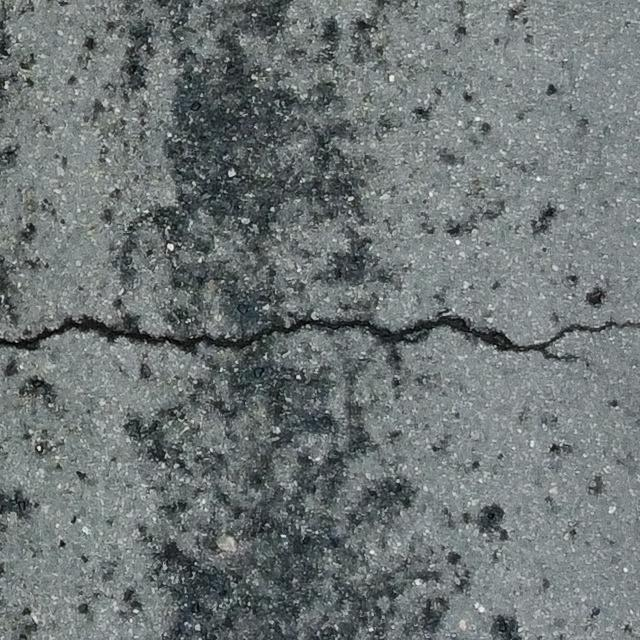TransverseCrack: (1, 307, 640, 360)
